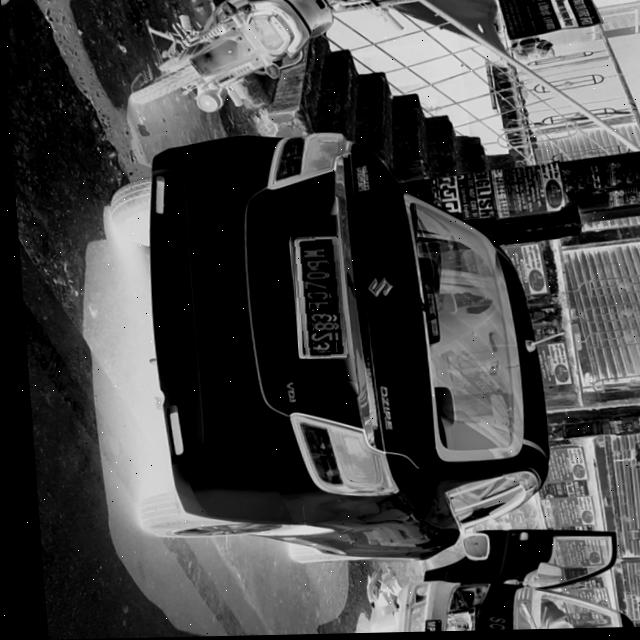0: (298, 273, 322, 283)
2: (304, 333, 329, 344)
3: (306, 344, 331, 354), (304, 314, 327, 324)
7: (299, 282, 323, 293)
8: (306, 324, 328, 333)
C: (301, 294, 324, 303)
F: (303, 304, 326, 312)
IND: (297, 242, 321, 253)
Indian_registered: (291, 239, 340, 360)
M: (297, 252, 322, 263)
P: (298, 262, 323, 271)
